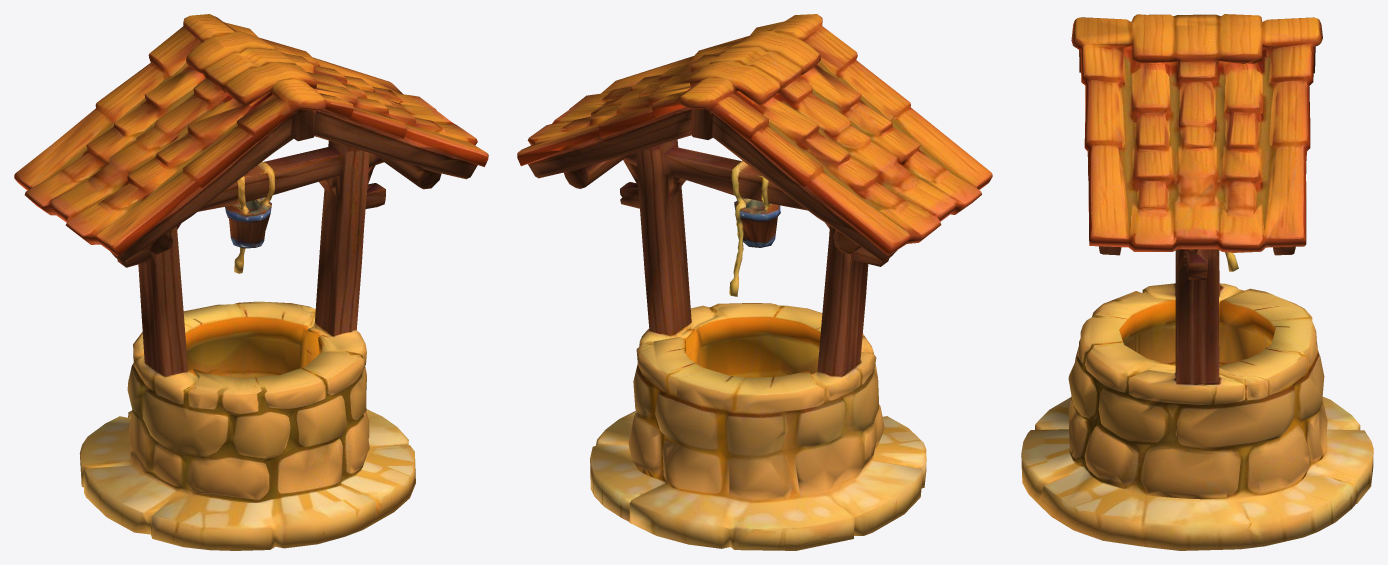
Rendered from well.glb.
3 renders of one model, left to right at view 1: azimuth 30°, elevation 25°; view 2: azimuth 150°, elevation 25°; view 3: azimuth 270°, elevation 25°, orthographic. The views are drawn at different scales.
Bounding box in the file's own units: 1.86 × 1.91 × 1.34.
1 material, 1 textured.
